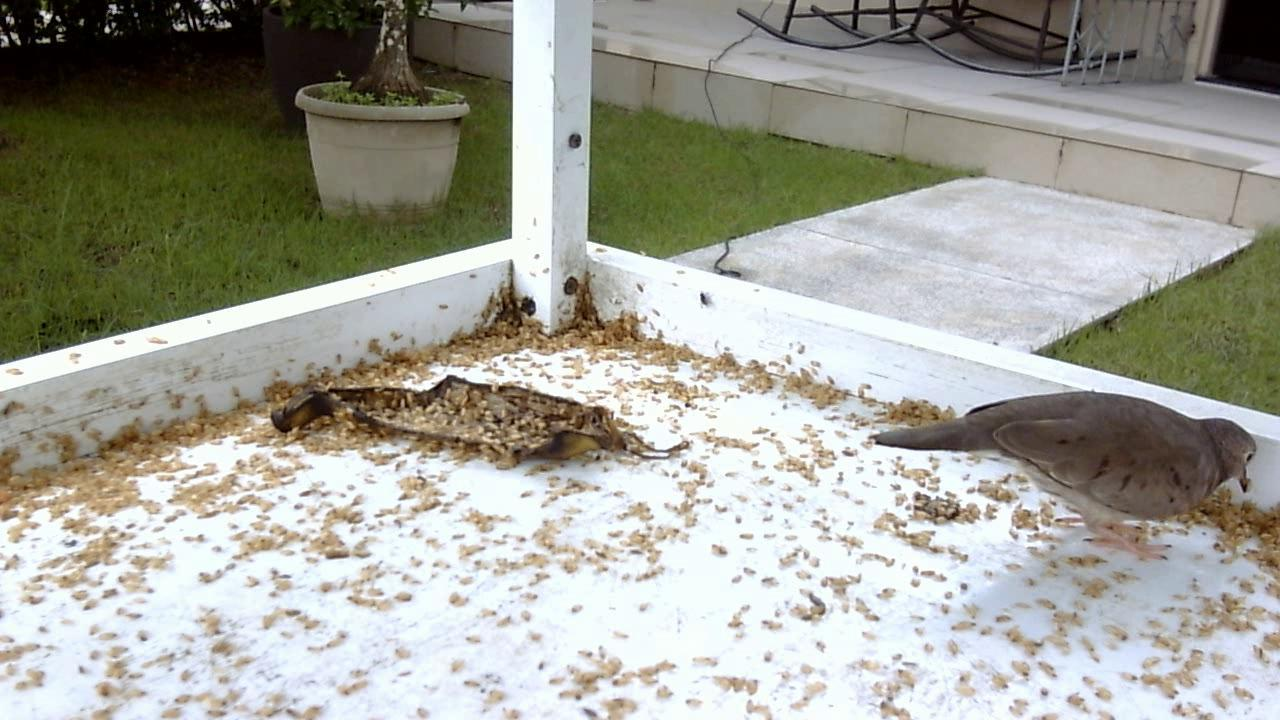rolinha: (857, 379, 1264, 562)
